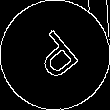P_SE: (24, 24, 86, 86)
